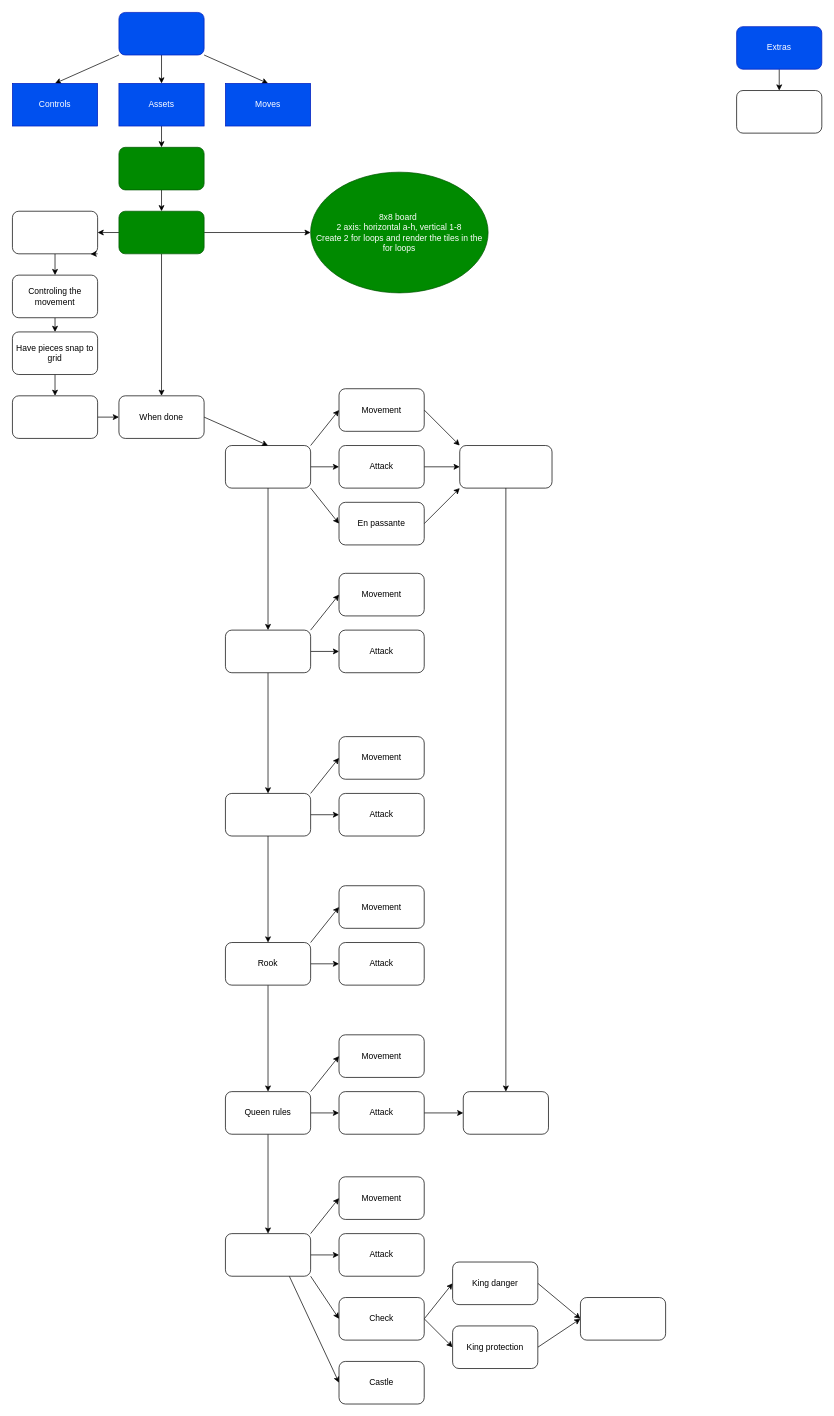
The diagram is 834 pixels wide and 1416 high, and some of its shapes have lost their labels. The box of each missing label's shape, as (x1, y1, x2, y2) in pixels:
Bishop: (225, 793, 311, 836)
Checkmate: (580, 1297, 666, 1340)
Chess game: (118, 12, 204, 55)
King rules: (225, 1233, 311, 1276)
Knight rules: (225, 629, 311, 673)
Move preview: (736, 90, 822, 133)
Moving the pieces: (12, 211, 98, 254)
Pawn promotion: (463, 1091, 548, 1134)
Pawn rules: (225, 445, 311, 488)
Referee: (12, 395, 98, 438)
The board: (118, 147, 204, 190)
The pieces: (118, 211, 204, 254)
When done and queen done: (459, 445, 552, 488)
